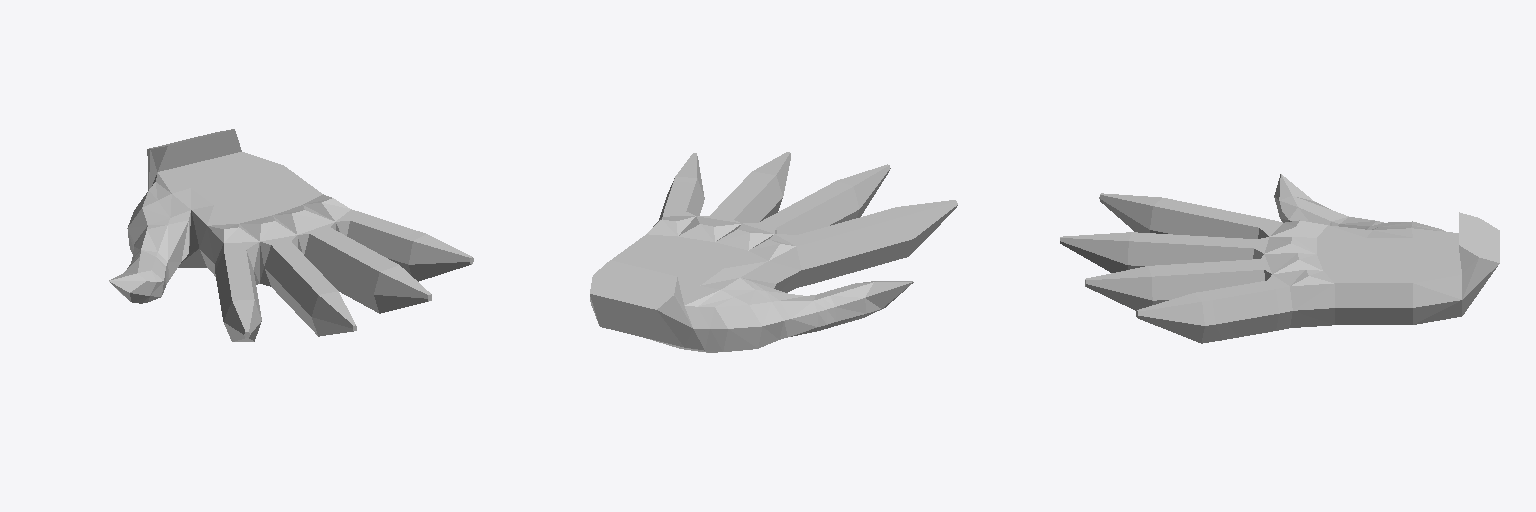
Rendered from BosHand_La.obj.
The picture shows the model from 3 angles: view 1: azimuth 30°, elevation 25°; view 2: azimuth 150°, elevation 25°; view 3: azimuth 270°, elevation 25°; orthographic projection.
Parts seen in each view (by area): view 1: pCube4; view 2: pCube4; view 3: pCube4.
Part boxes in pixels (x1,y1,x2,y2): pCube4: (109, 129, 473, 341); pCube4: (590, 152, 957, 352); pCube4: (1060, 174, 1499, 343).
Size of the model in its own units: 0.673 by 0.1945 by 0.8713.